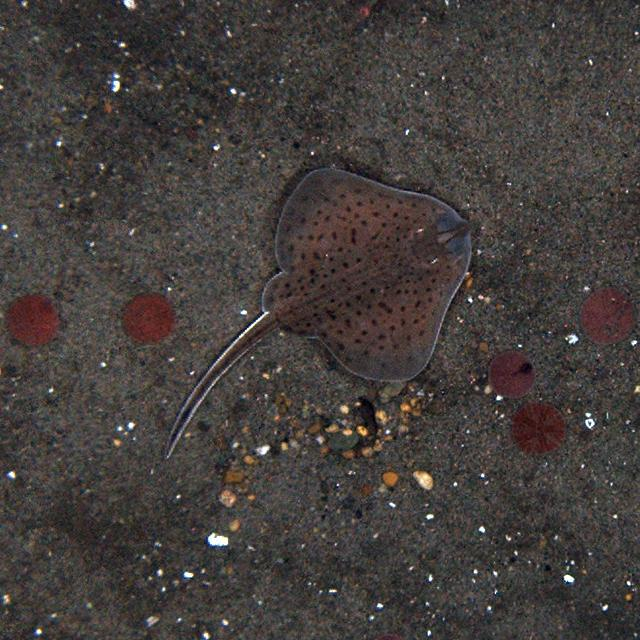skate: (170, 166, 470, 445)
